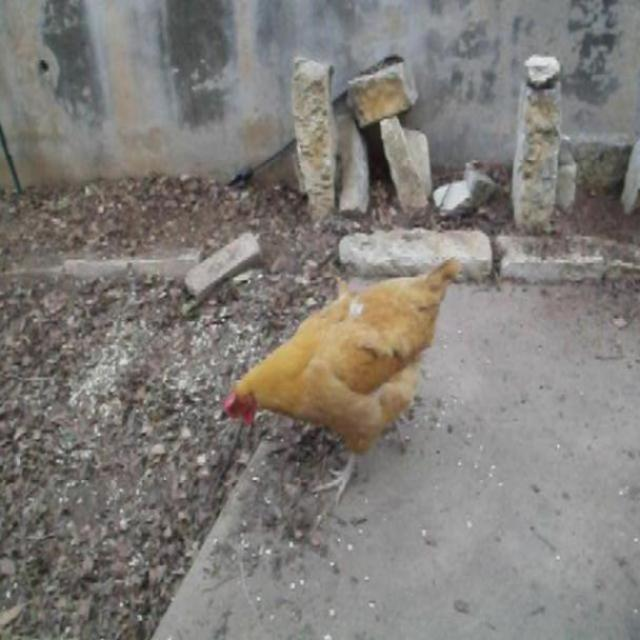Chicken: (229, 255, 462, 503)
